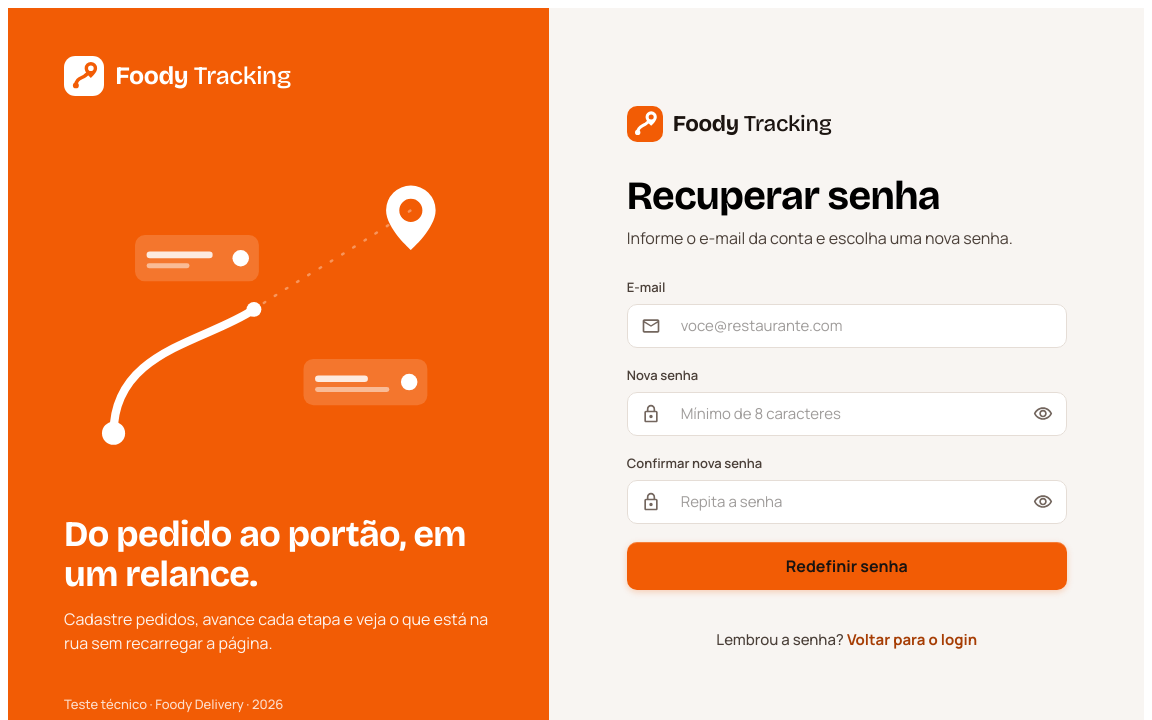
ForgotPasswordPage › resets the password and points back to the login
Expected: the heading "Recuperar senha" is shown, [627,172,940,220]
Type "henrique@restaurante.com" into the field labelled "E-mail" at [868, 326], box [669,304,1067,348]
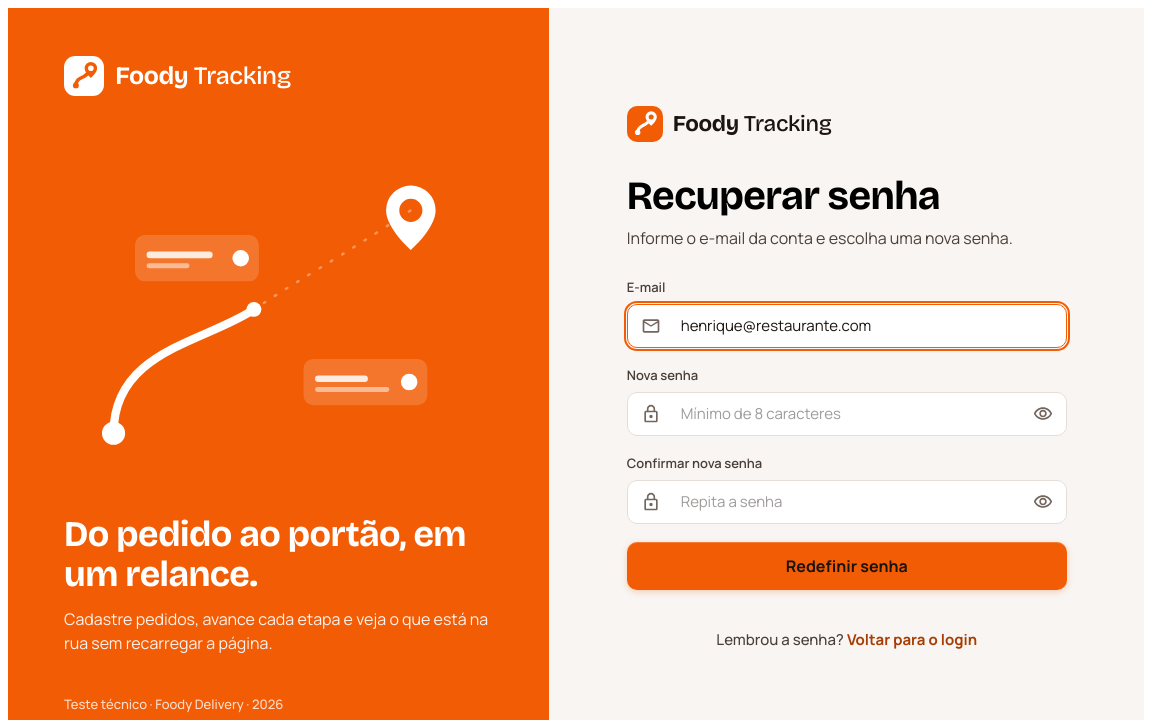
Type "nova-senha-1" into the password field labelled "Nova senha" at [841, 414], box [669,392,1013,436]
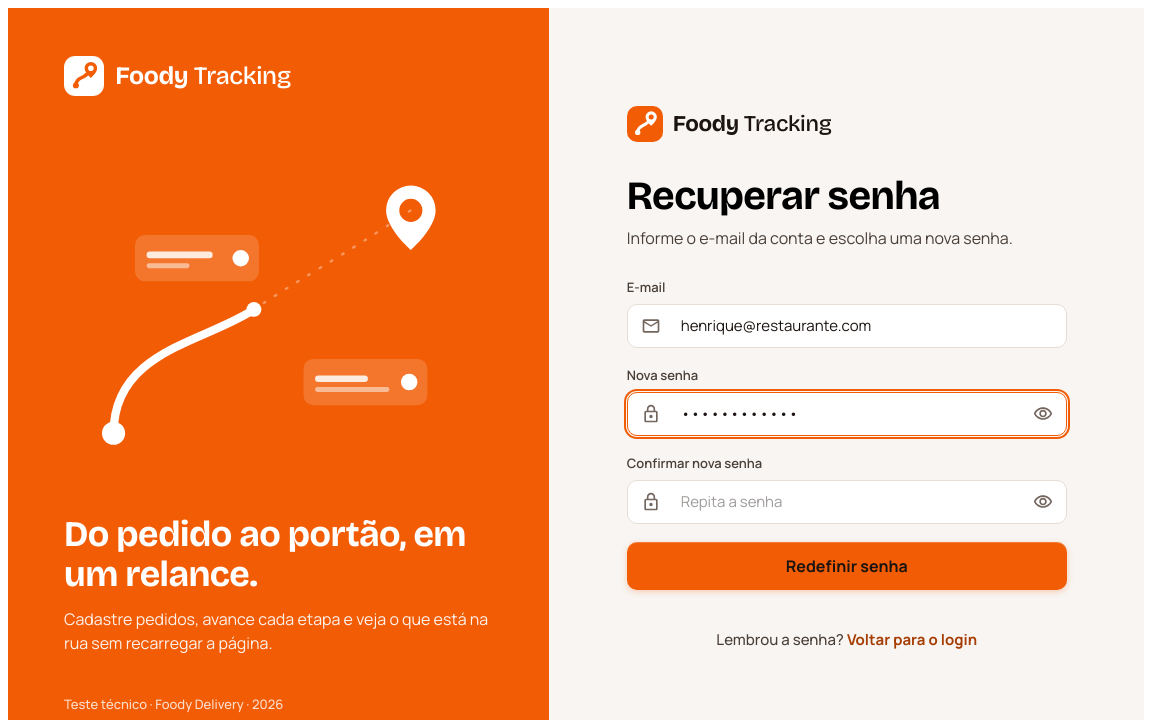
Type "nova-senha-1" into the password field labelled "Confirmar nova senha" at [841, 502], box [669,480,1013,524]
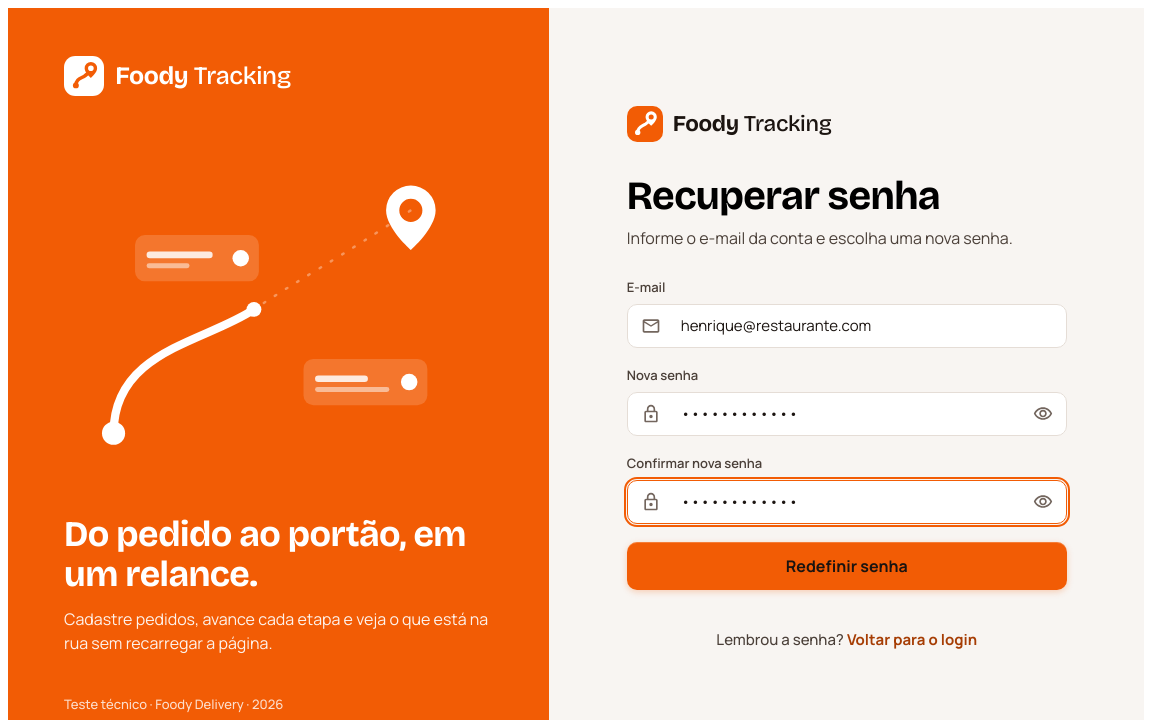
Click the button "Redefinir senha" at [847, 566], box [627,542,1067,590]
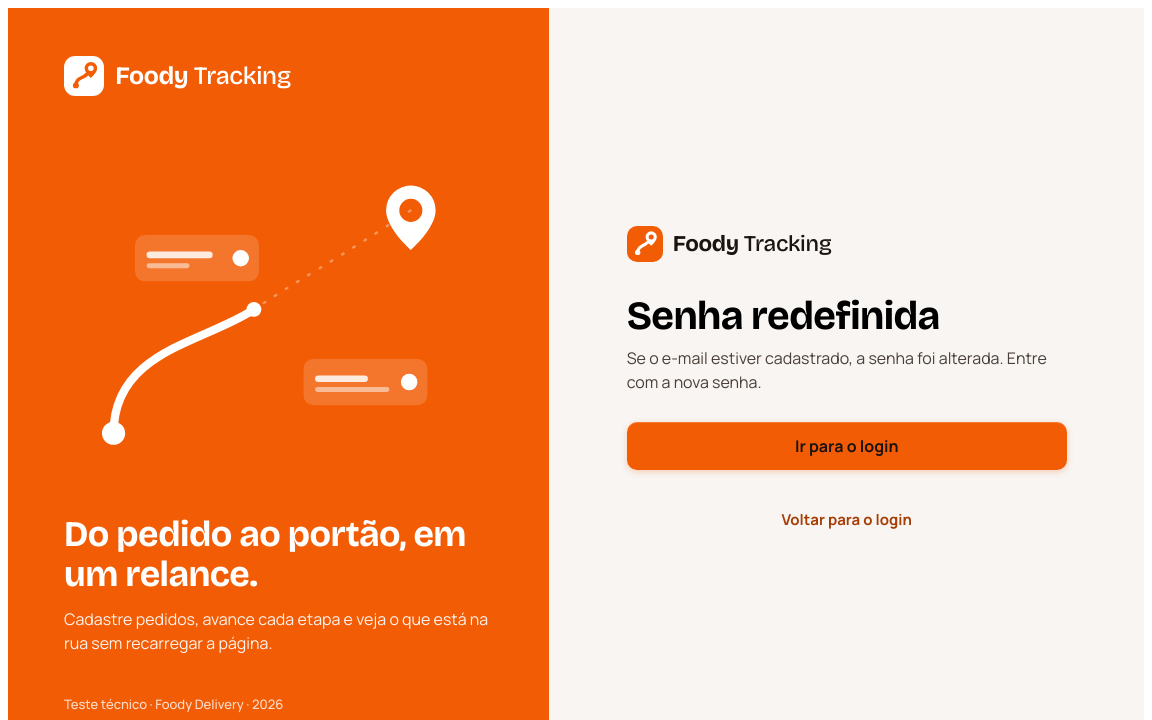
Expected: the heading "Senha redefinida" is shown, [627,292,940,340]
Expected: the text "Se o e-mail estiver cadastrado, a senha foi alterada. Entre com a nova senha." is shown, [627,346,1067,394]
